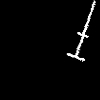double_crochet: (67, 1, 94, 60)
